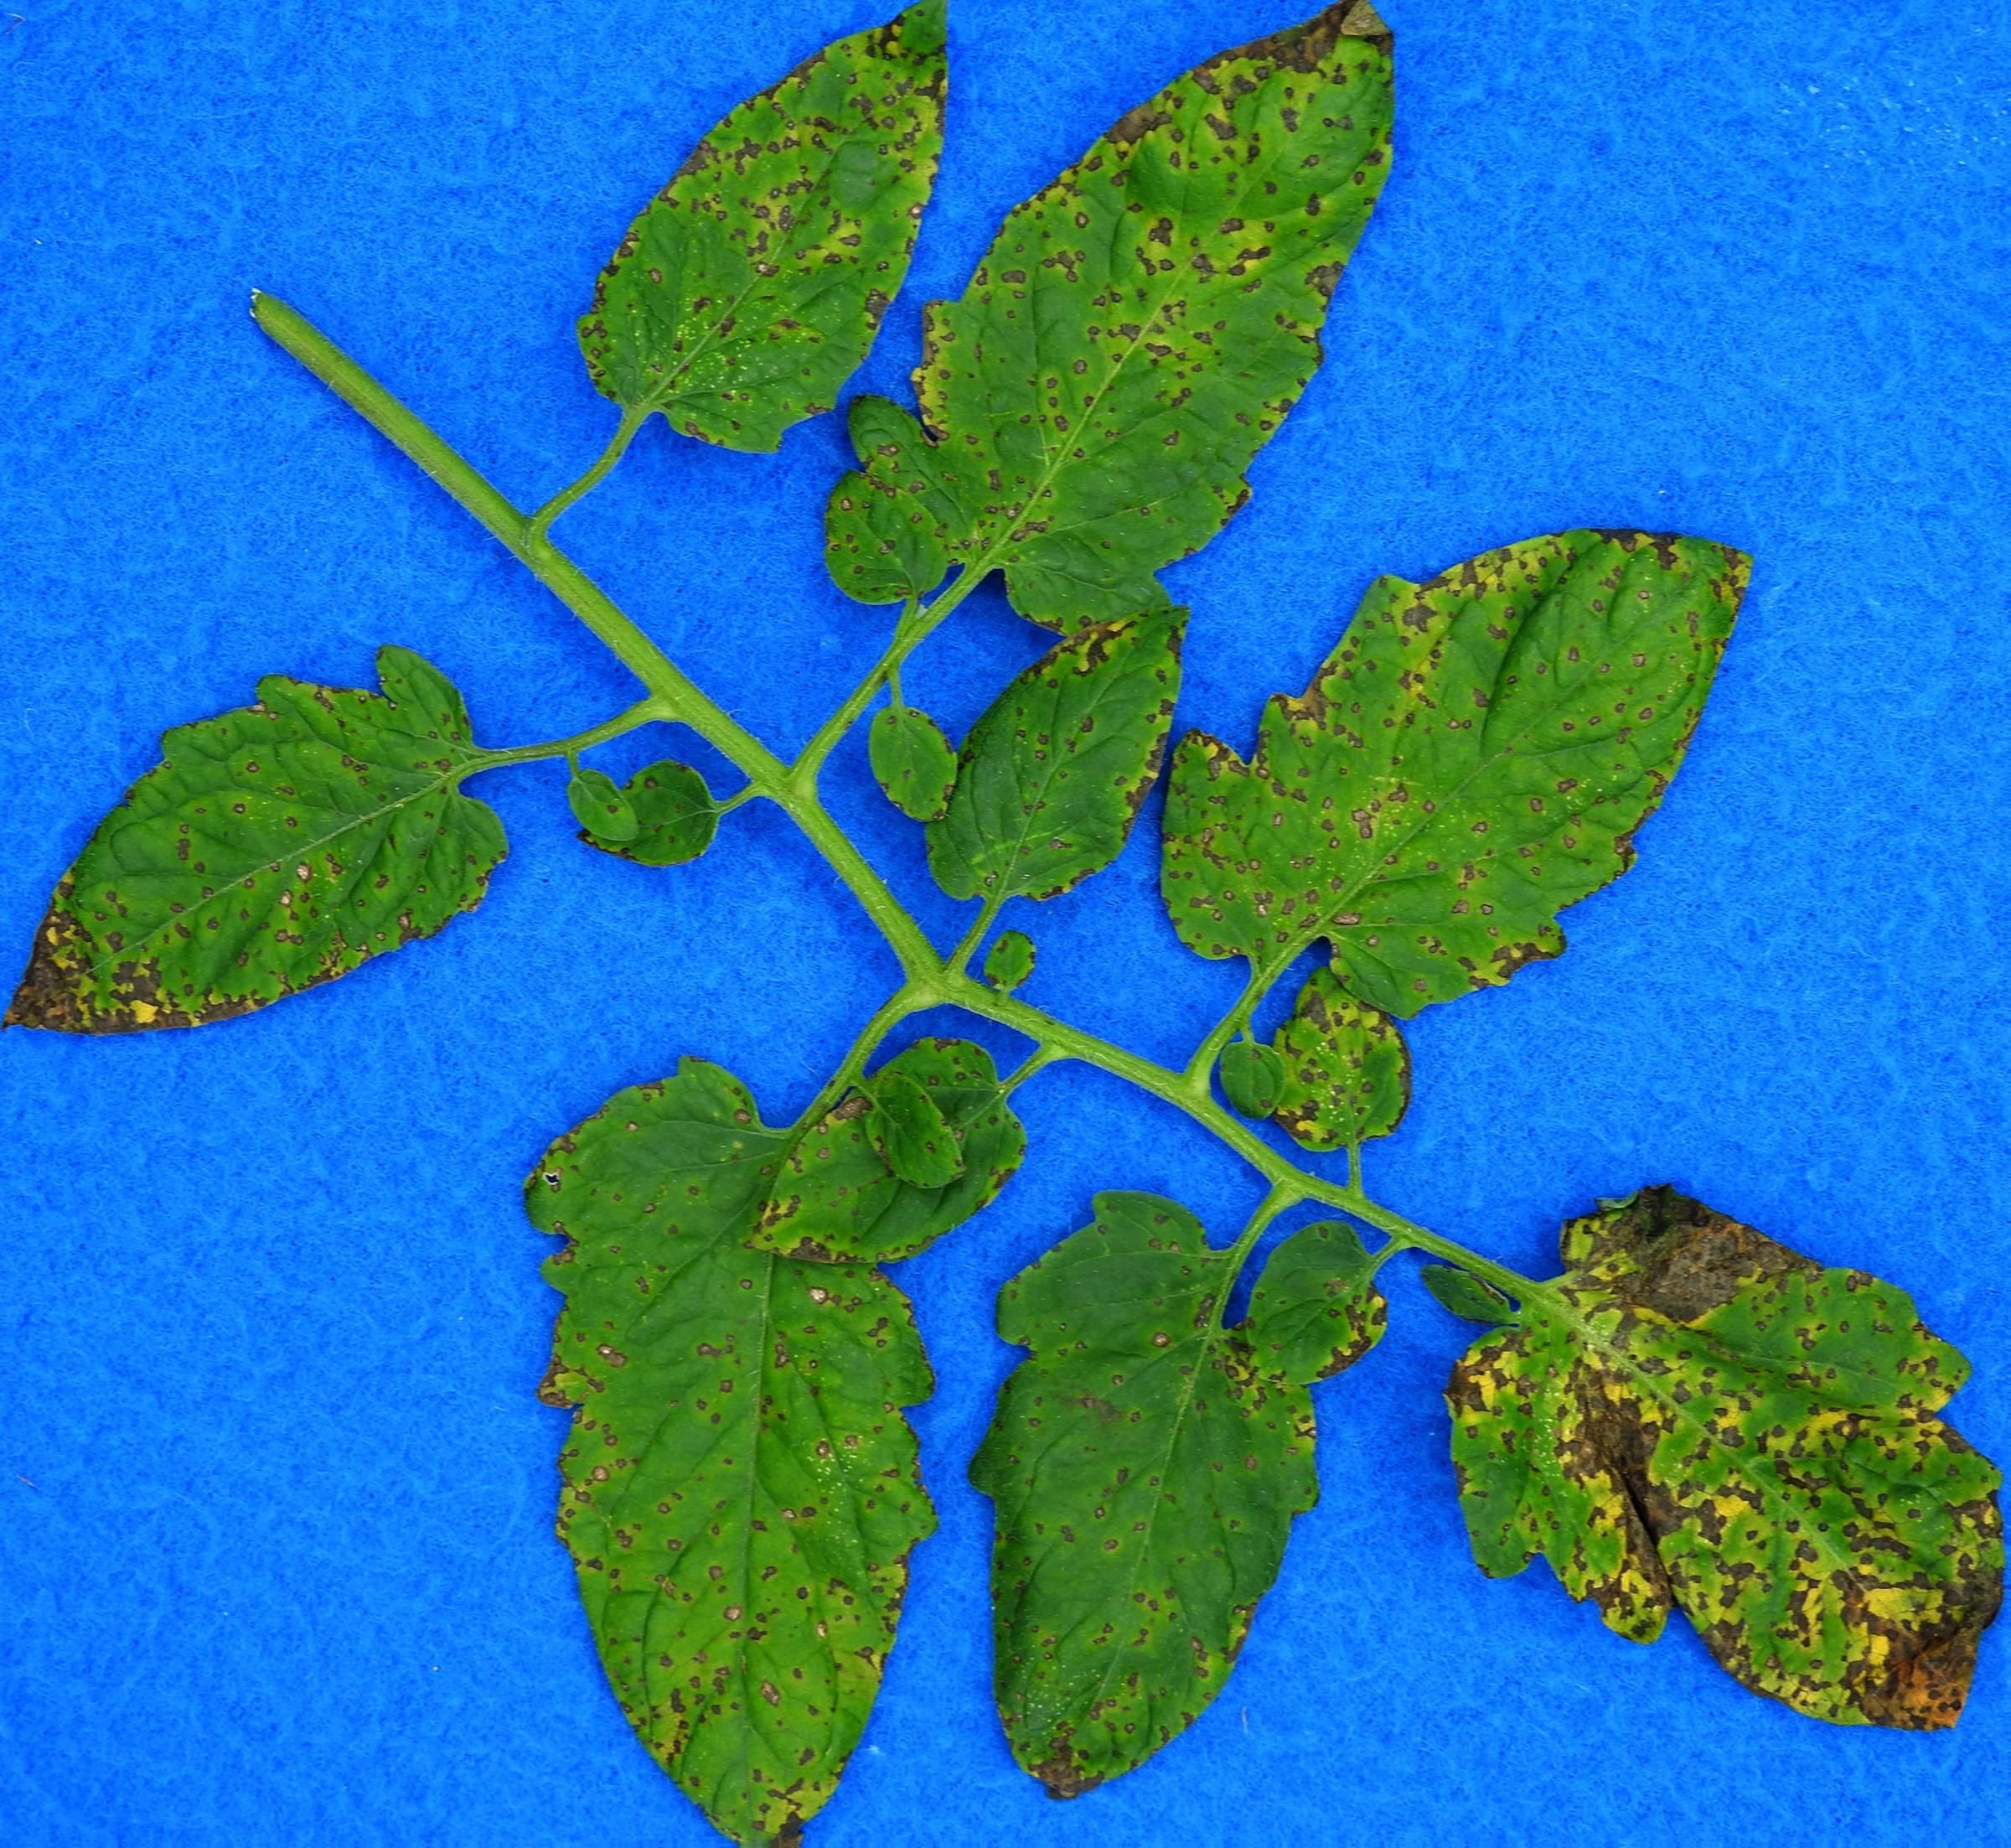Tomato Septoria leaf spot: (519, 948, 965, 1848), (1424, 1147, 2011, 1780), (858, 2, 1401, 674), (937, 1186, 1449, 1837), (1154, 510, 1752, 1028), (25, 617, 520, 1093), (562, 5, 972, 490), (928, 606, 1202, 923), (743, 1032, 1072, 1280)
